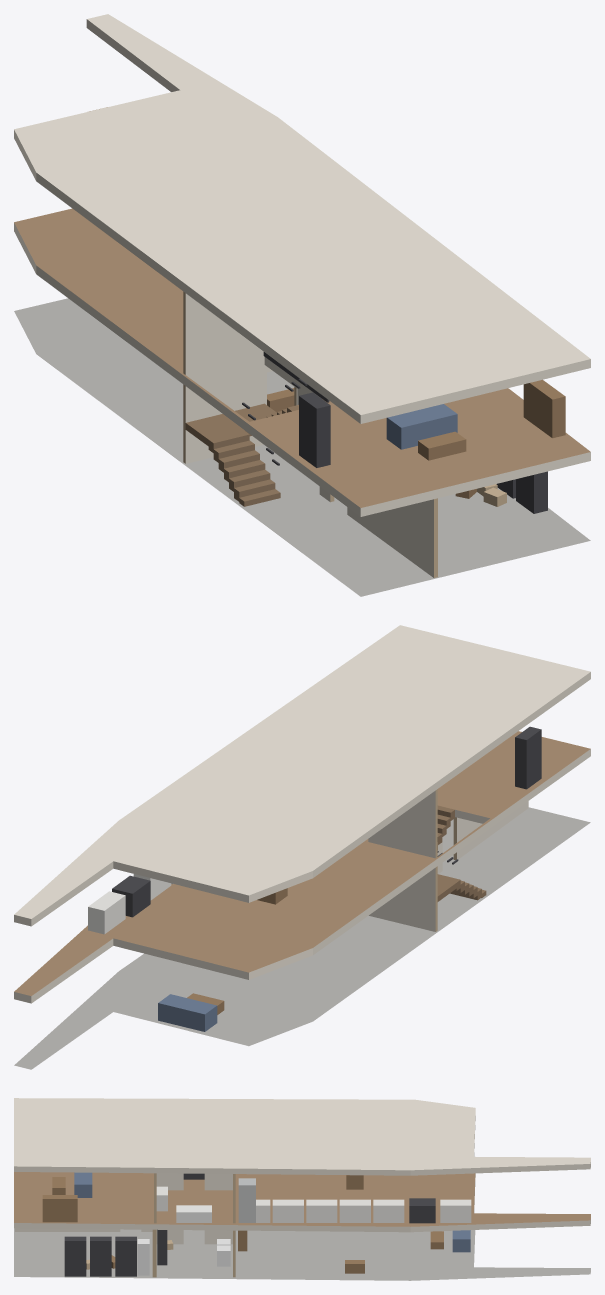
Rendered from interior.glb.
3 views of the same model, one above another, from view 1: azimuth 30°, elevation 25°; view 2: azimuth 150°, elevation 25°; view 3: azimuth 270°, elevation 25° (orthographic). The views are drawn at different scales.
Visible parts, largest first — view 1: slabs, partitions, coarse-s1, stair, coarse-s0; view 2: slabs, partitions, coarse-s1, coarse-s0, stair; view 3: slabs, coarse-s1, coarse-s0, partitions.
Boxes of the visible parts, <box> form: slabs: <box>14,14,590,596</box>; partitions: <box>183,291,437,577</box>; coarse-s1: <box>299,379,565,467</box>; stair: <box>185,352,329,506</box>; coarse-s0: <box>267,388,547,513</box>; slabs: <box>14,625,590,1069</box>; partitions: <box>368,789,528,931</box>; coarse-s1: <box>88,726,541,934</box>; coarse-s0: <box>158,993,224,1031</box>; stair: <box>437,805,486,901</box>; slabs: <box>14,1098,590,1280</box>; coarse-s1: <box>42,1172,471,1223</box>; coarse-s0: <box>64,1229,470,1276</box>; partitions: <box>15,1173,235,1277</box>.
Size of the model in its own units: 7.39 by 5.3 by 24.98.
